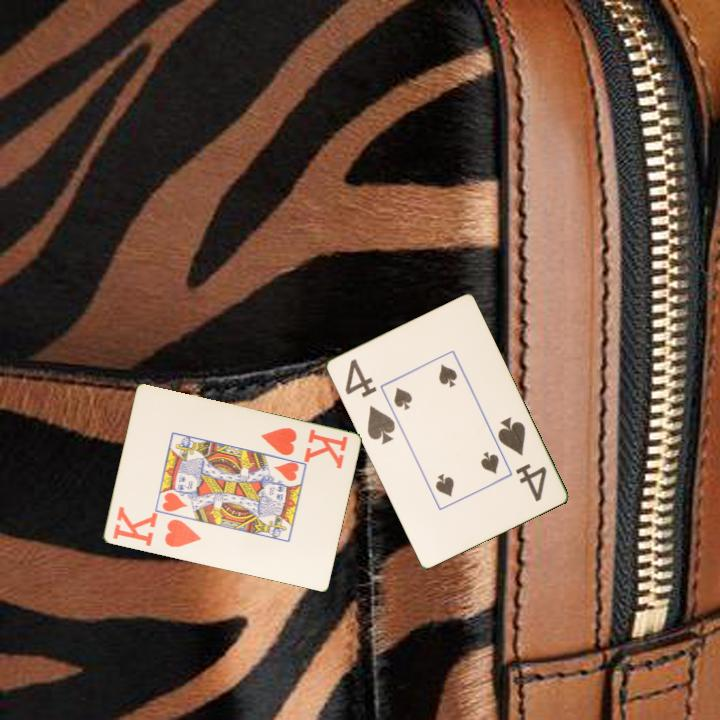4s: (341, 355, 398, 447), (494, 413, 550, 504)
Kh: (109, 503, 204, 551), (257, 424, 350, 471)
